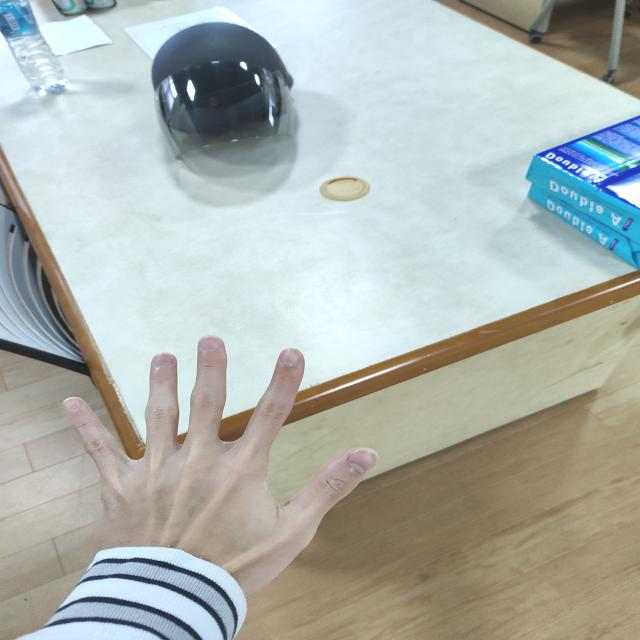no_glove: (54, 328, 389, 615)
